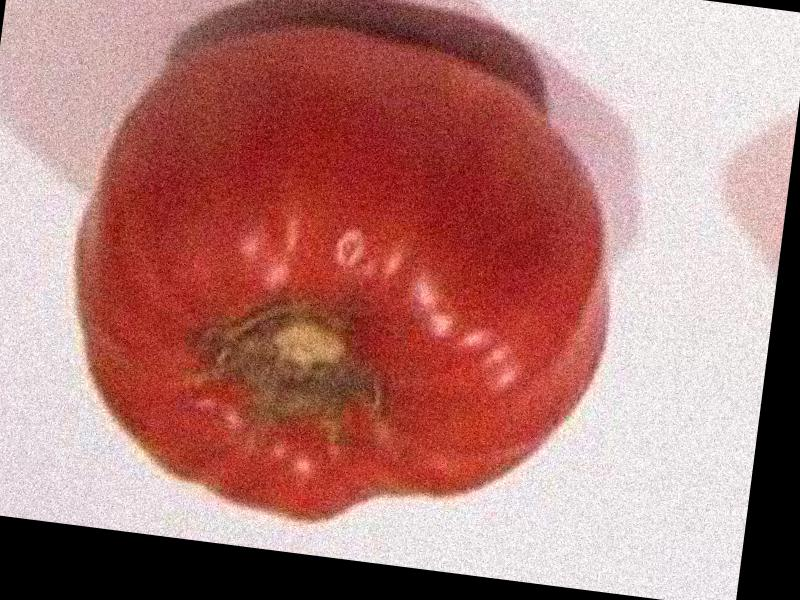Tomato: (49, 6, 633, 552)
